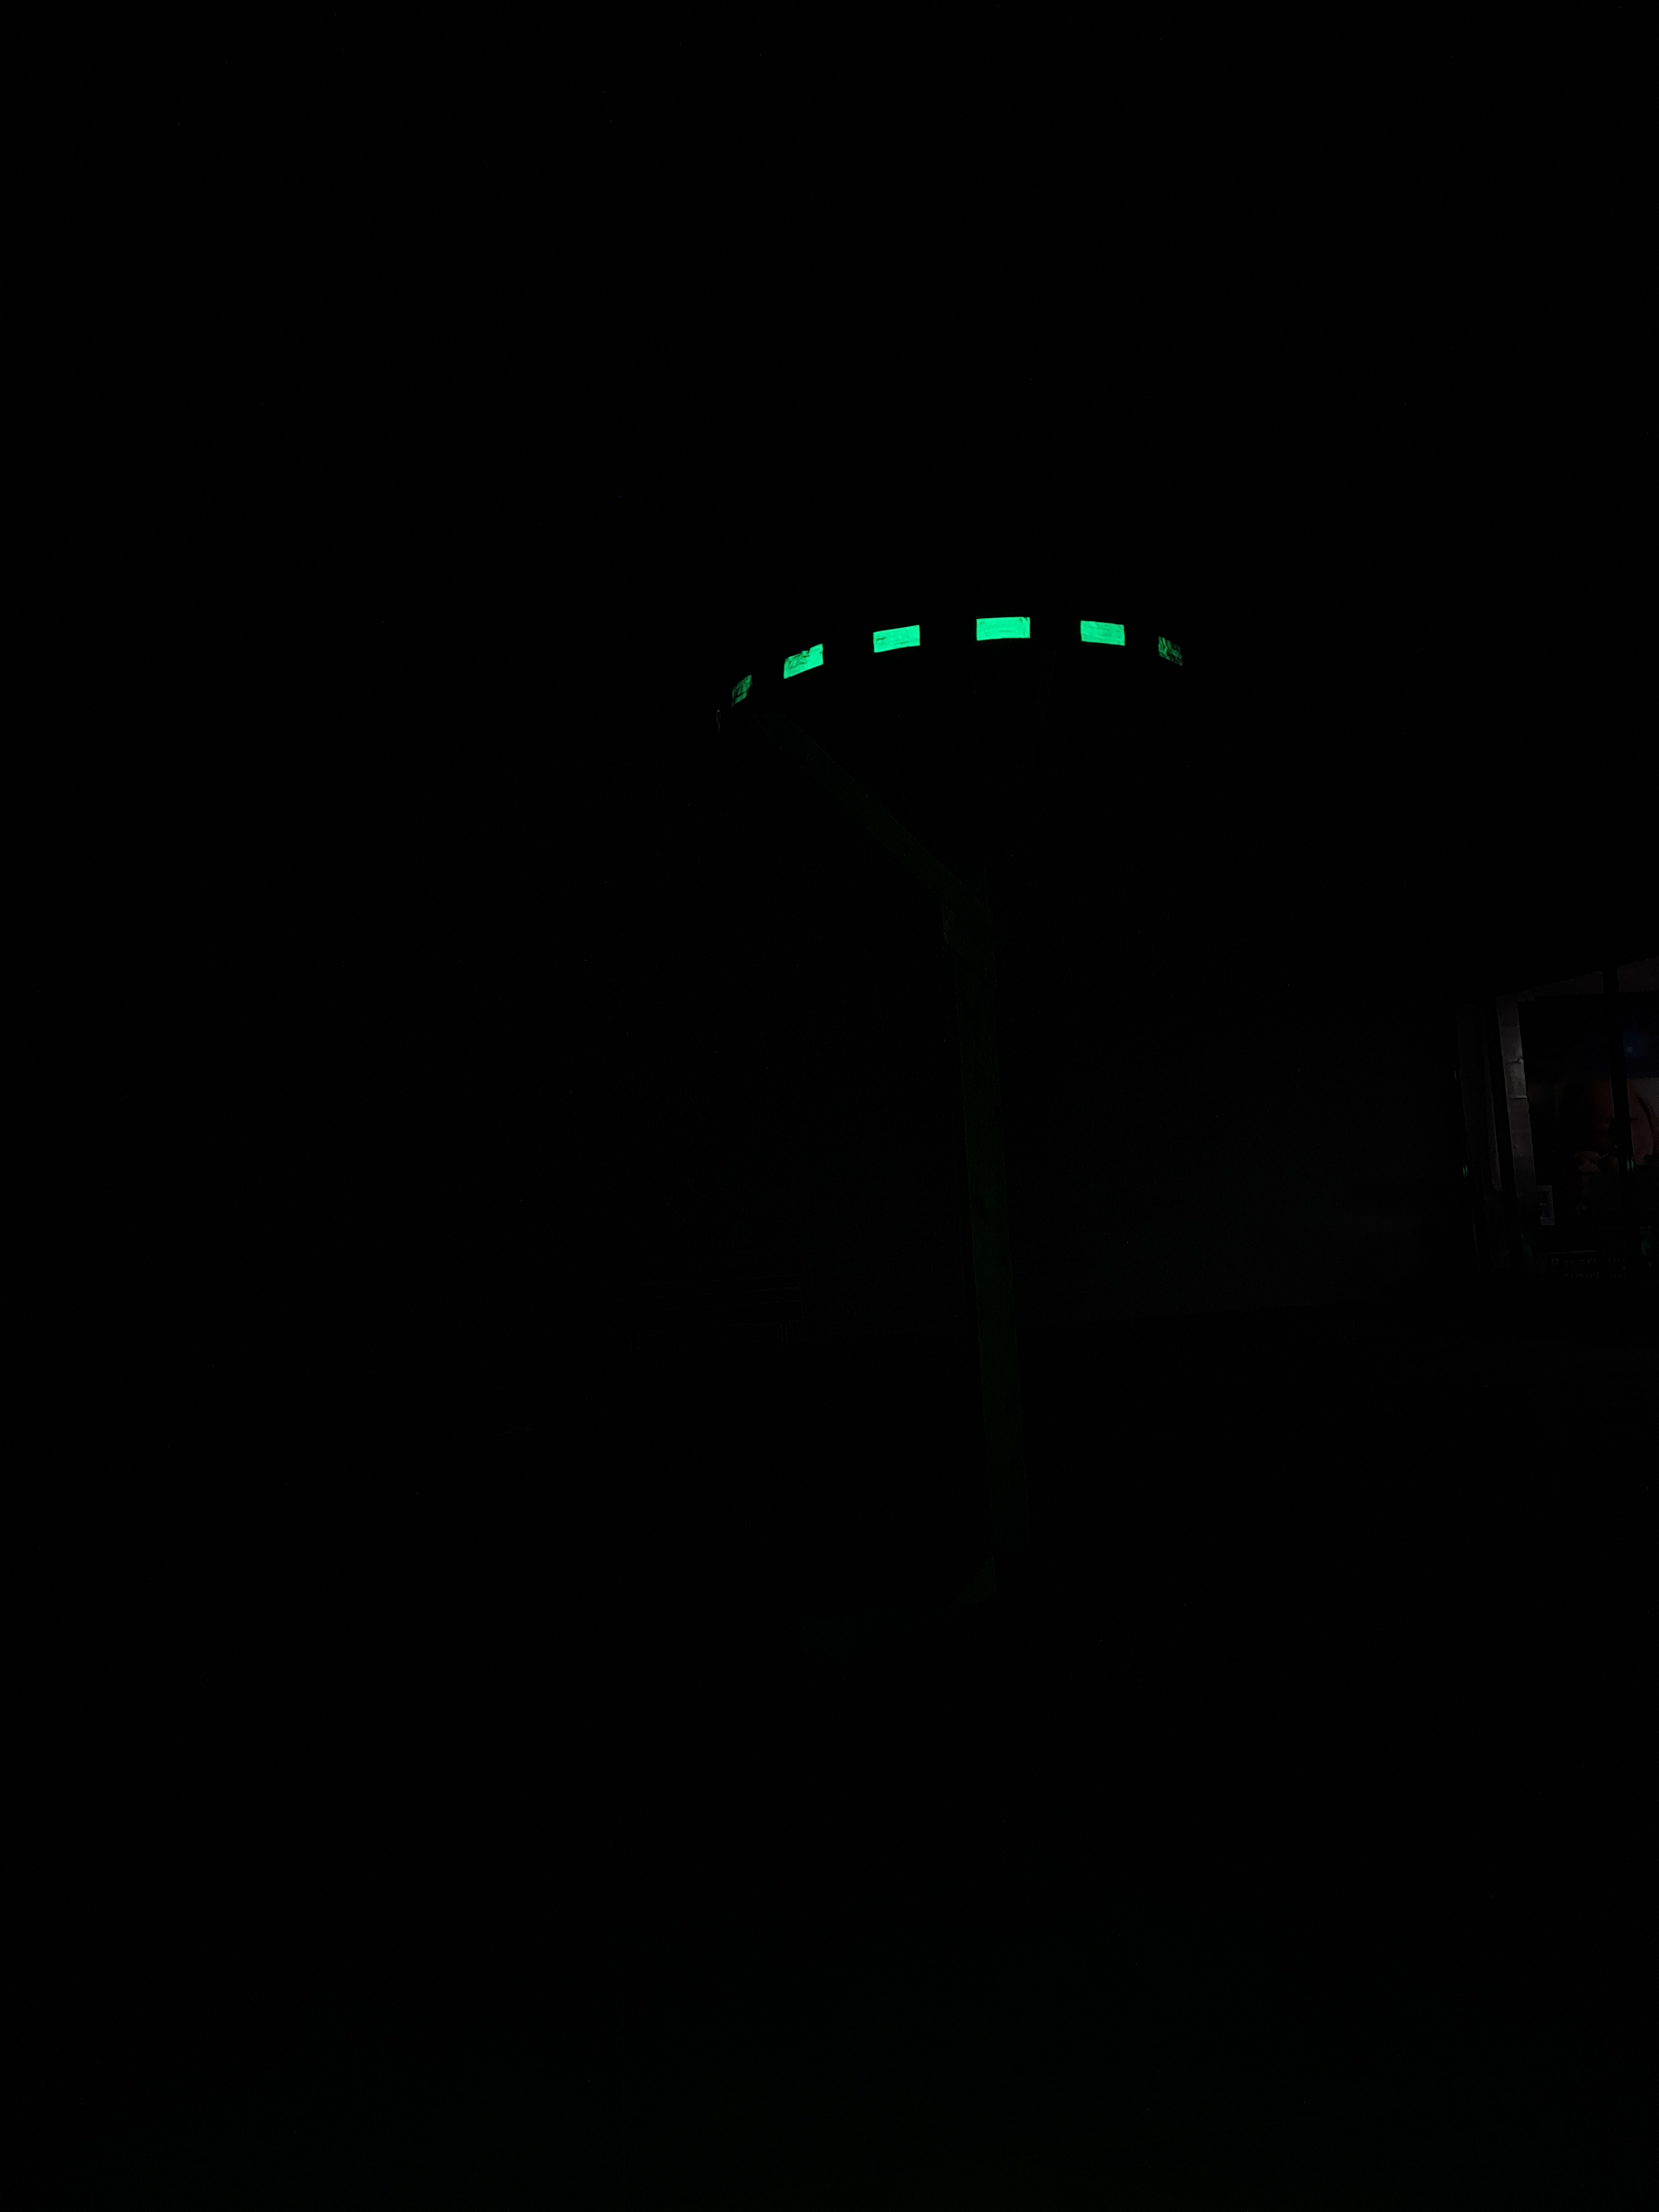hoop: (697, 589, 1218, 730)
